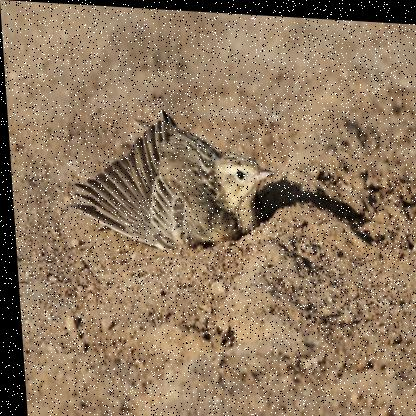Burung: (60, 103, 279, 260)
